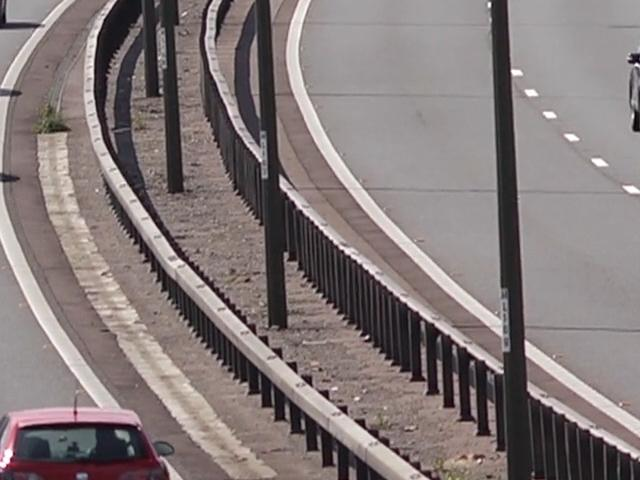car: (0, 398, 179, 480)
